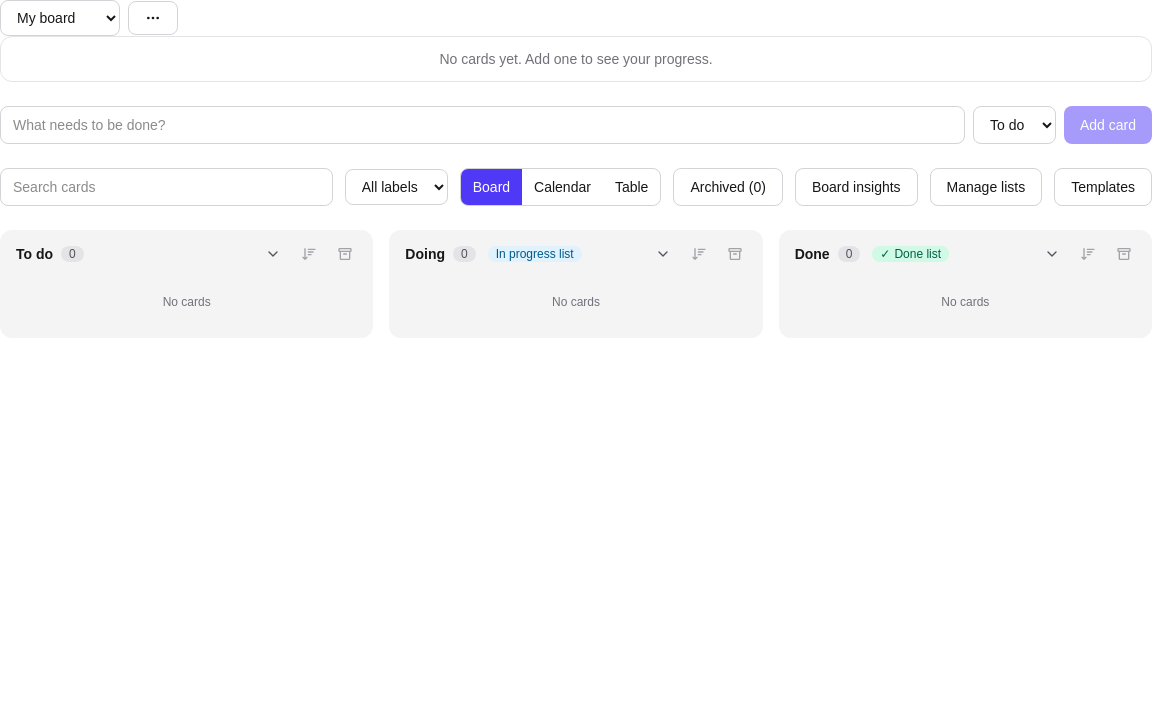
Test: <BoardSwitcher /> roles › asks before leaving a board
This screenshot has width=1152, height=720.
Click the button named "Board actions". click: (153, 18)
box: [128,1,178,35]
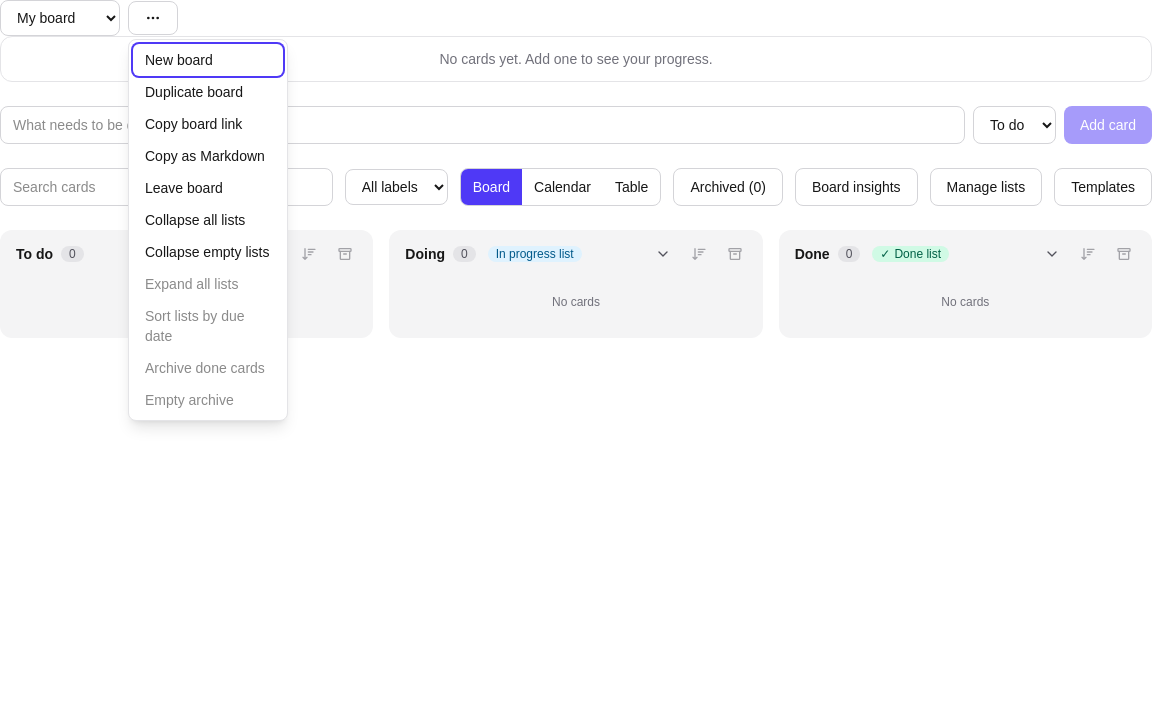
Click the menu item "Leave board". click: (208, 188)
box: [133,172,283,204]
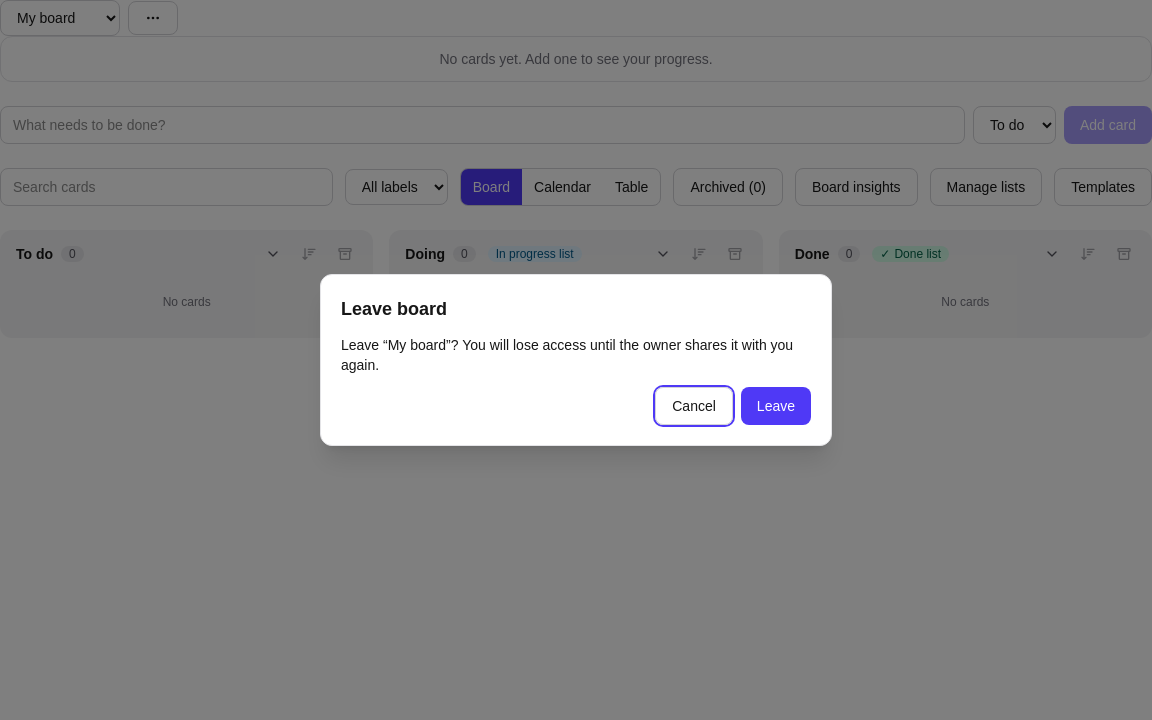
Result: the dialog "Leave board" is shown at [320,274,832,446]
Click the button "Cancel". click: (694, 406)
box: [655,387,733,425]
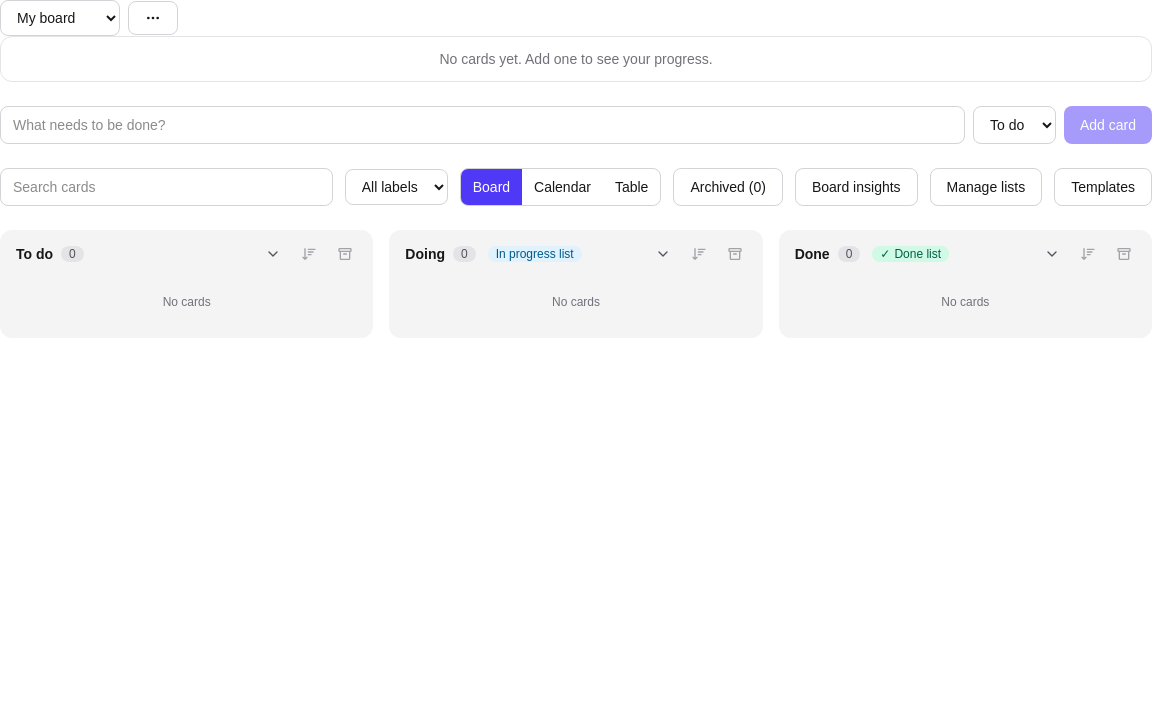
Result: the dialog is gone
